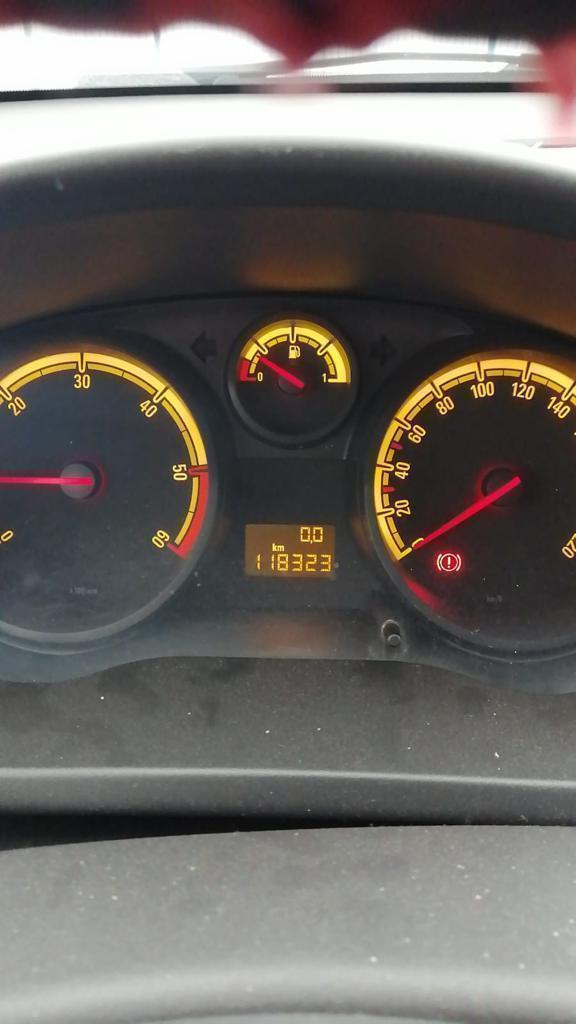,: (310, 539, 312, 544)
0: (312, 525, 324, 542), (298, 525, 310, 542)
1: (268, 552, 275, 570), (255, 553, 261, 570)
2: (305, 553, 317, 571)
3: (290, 553, 302, 572), (319, 553, 331, 571)
8: (276, 552, 289, 572)
X: (271, 542, 277, 551), (277, 544, 284, 551)
odometer: (238, 518, 343, 584)
